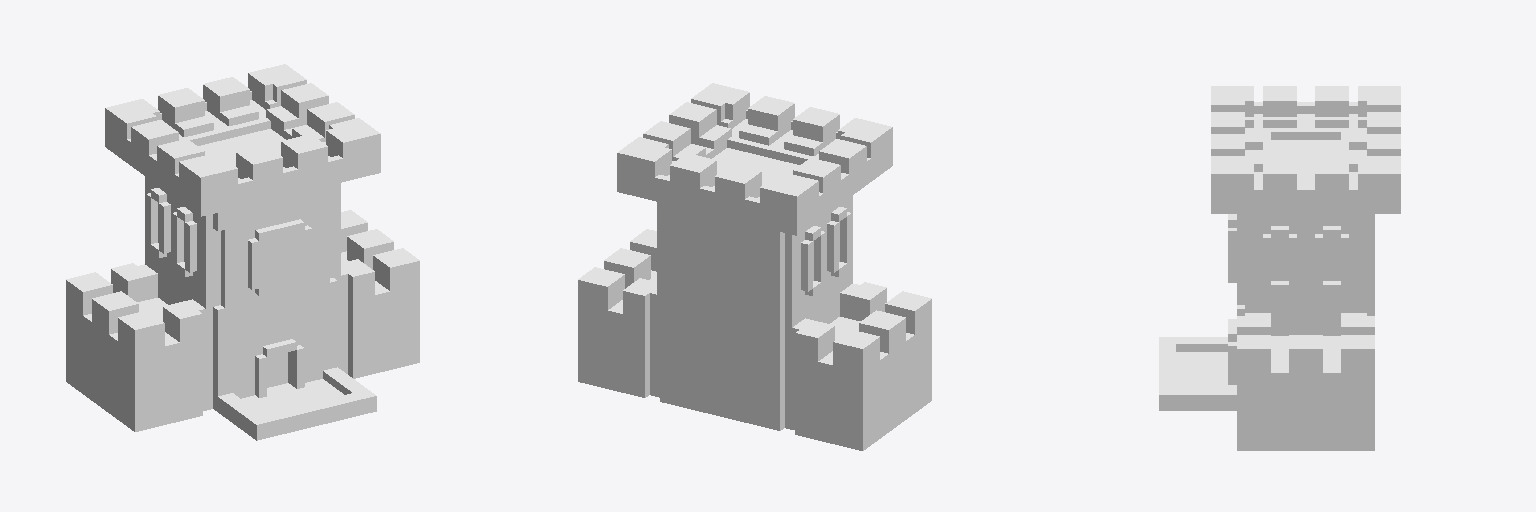
The model's file is Castle-1.obj.
The picture shows the model from 3 angles: view 1: azimuth 30°, elevation 25°; view 2: azimuth 150°, elevation 25°; view 3: azimuth 270°, elevation 25°; orthographic projection.
Parts seen in each view (by area): view 1: object 1; view 2: object 1; view 3: object 1.
Boxes of the visible parts, x1,y1,x2,y2 form: object 1: [66, 64, 419, 440]; object 1: [578, 83, 931, 450]; object 1: [1159, 86, 1400, 450].
Size of the model in its own units: 3.8 by 3.2 by 2.8.